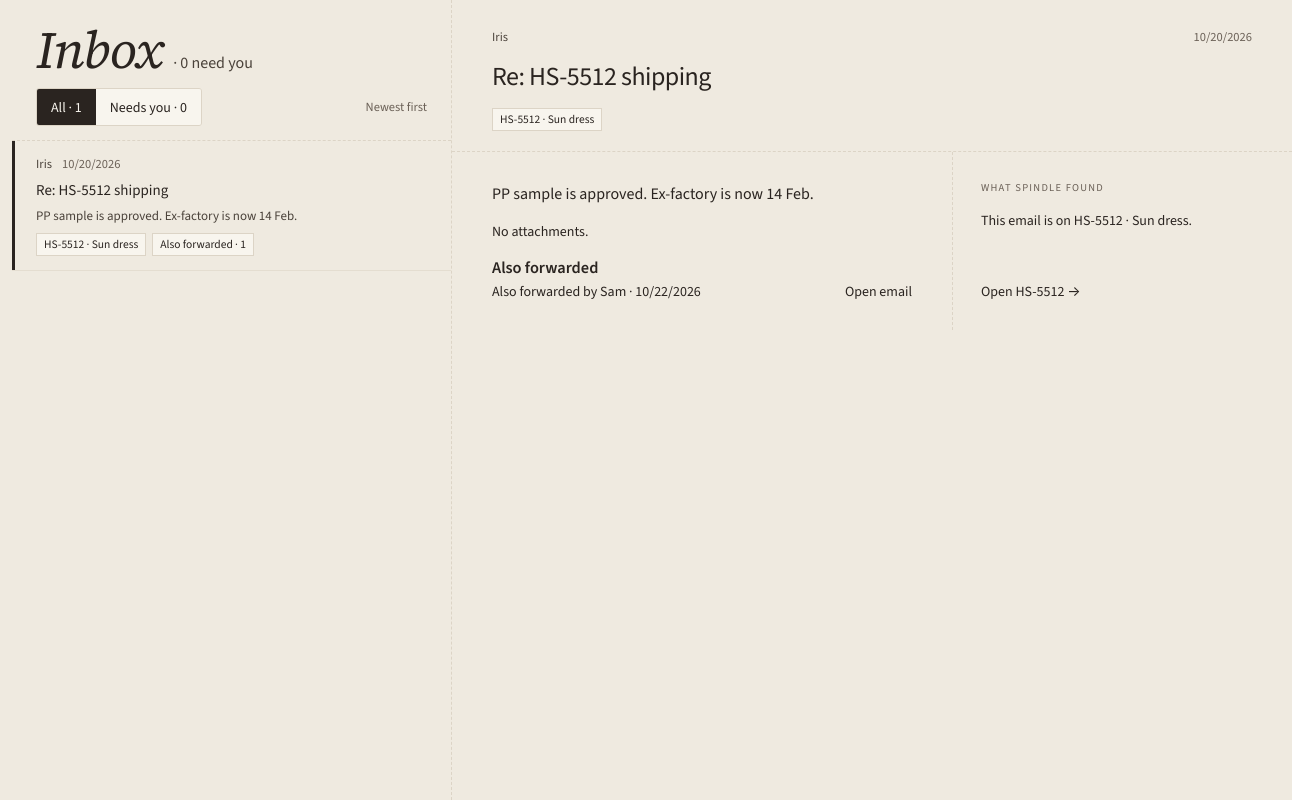
Scenario: Inbox › groups an exact forwarded copy under Also forwarded
Expected: the text "Also forwarded · 1" is shown, [152, 233, 254, 256]
Expected: the number of options is 1, [12, 141, 451, 271]
Click the button "Needs you · 0" at (148, 107), box [96, 89, 201, 125]
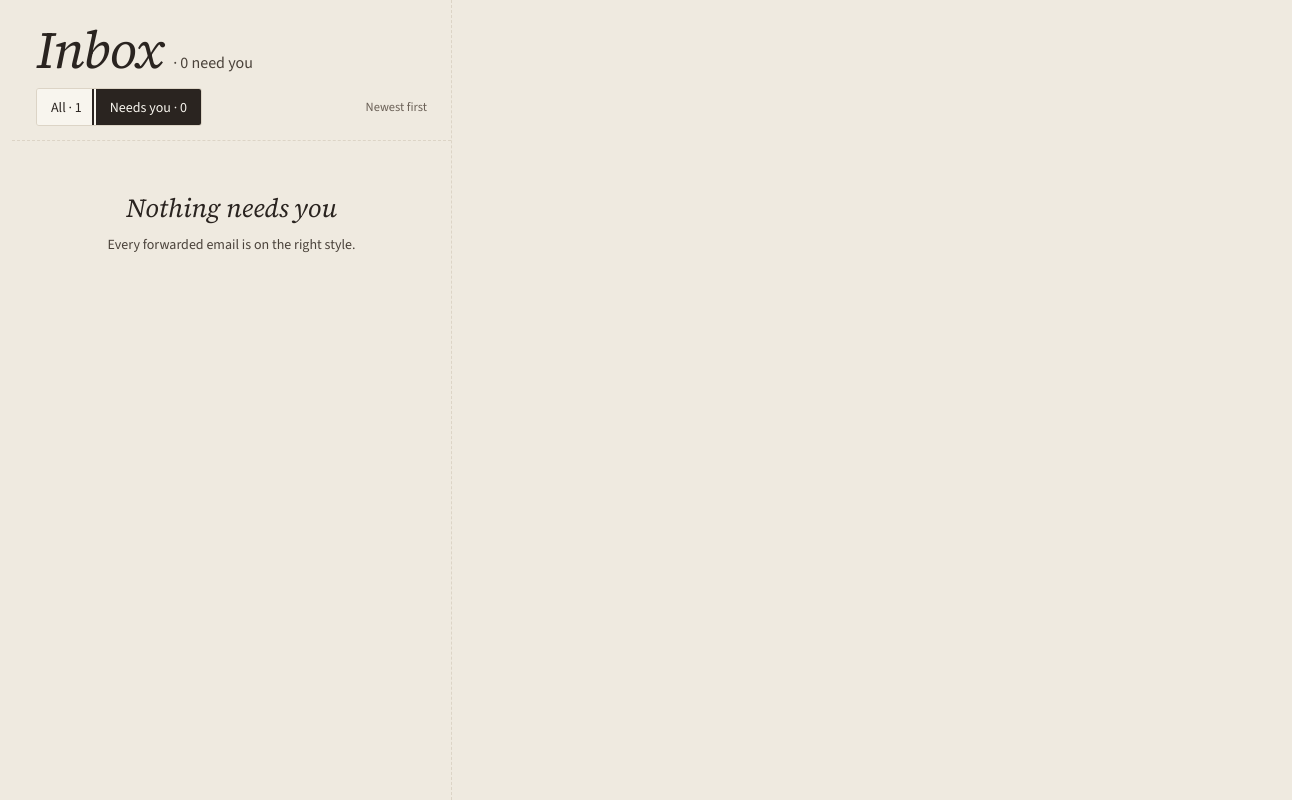
Now the heading "Nothing needs you" is shown, box [126, 190, 337, 226]
Now the option "sam" is gone
